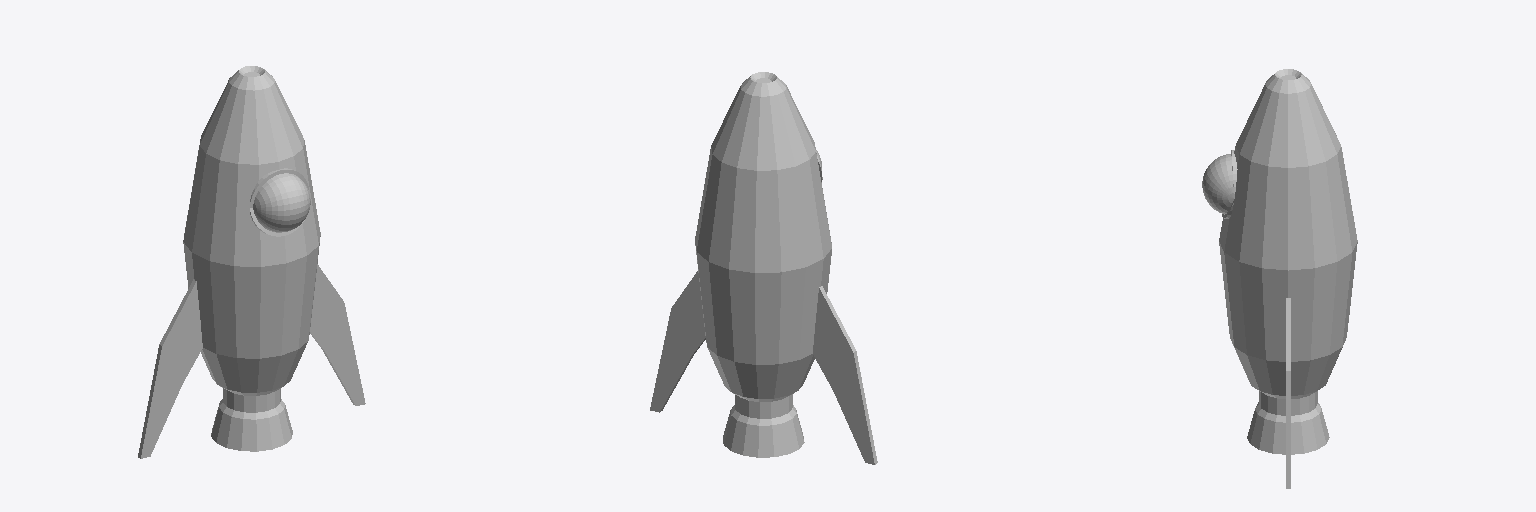
Rendered from SpaceShip.obj.
The picture shows the model from 3 angles: view 1: azimuth 30°, elevation 25°; view 2: azimuth 150°, elevation 25°; view 3: azimuth 270°, elevation 25°; orthographic projection.
Visible parts, largest first — view 1: Cylinder_Cylinder.001; view 2: Cylinder_Cylinder.001; view 3: Cylinder_Cylinder.001.
Boxes of the visible parts, x1=… form: Cylinder_Cylinder.001: x1=138, y1=66, x2=365, y2=458; Cylinder_Cylinder.001: x1=650, y1=72, x2=877, y2=464; Cylinder_Cylinder.001: x1=1202, y1=69, x2=1357, y2=488.
Size of the model in its own units: 4.91 by 7.56 by 2.94.